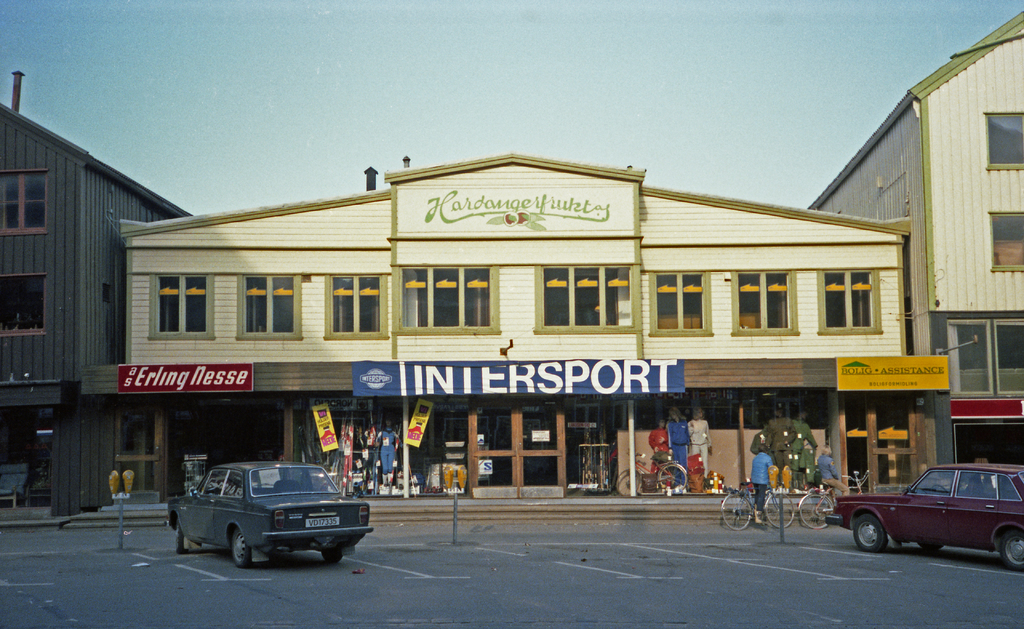Car: (165, 458, 376, 570), (818, 462, 1023, 572)
